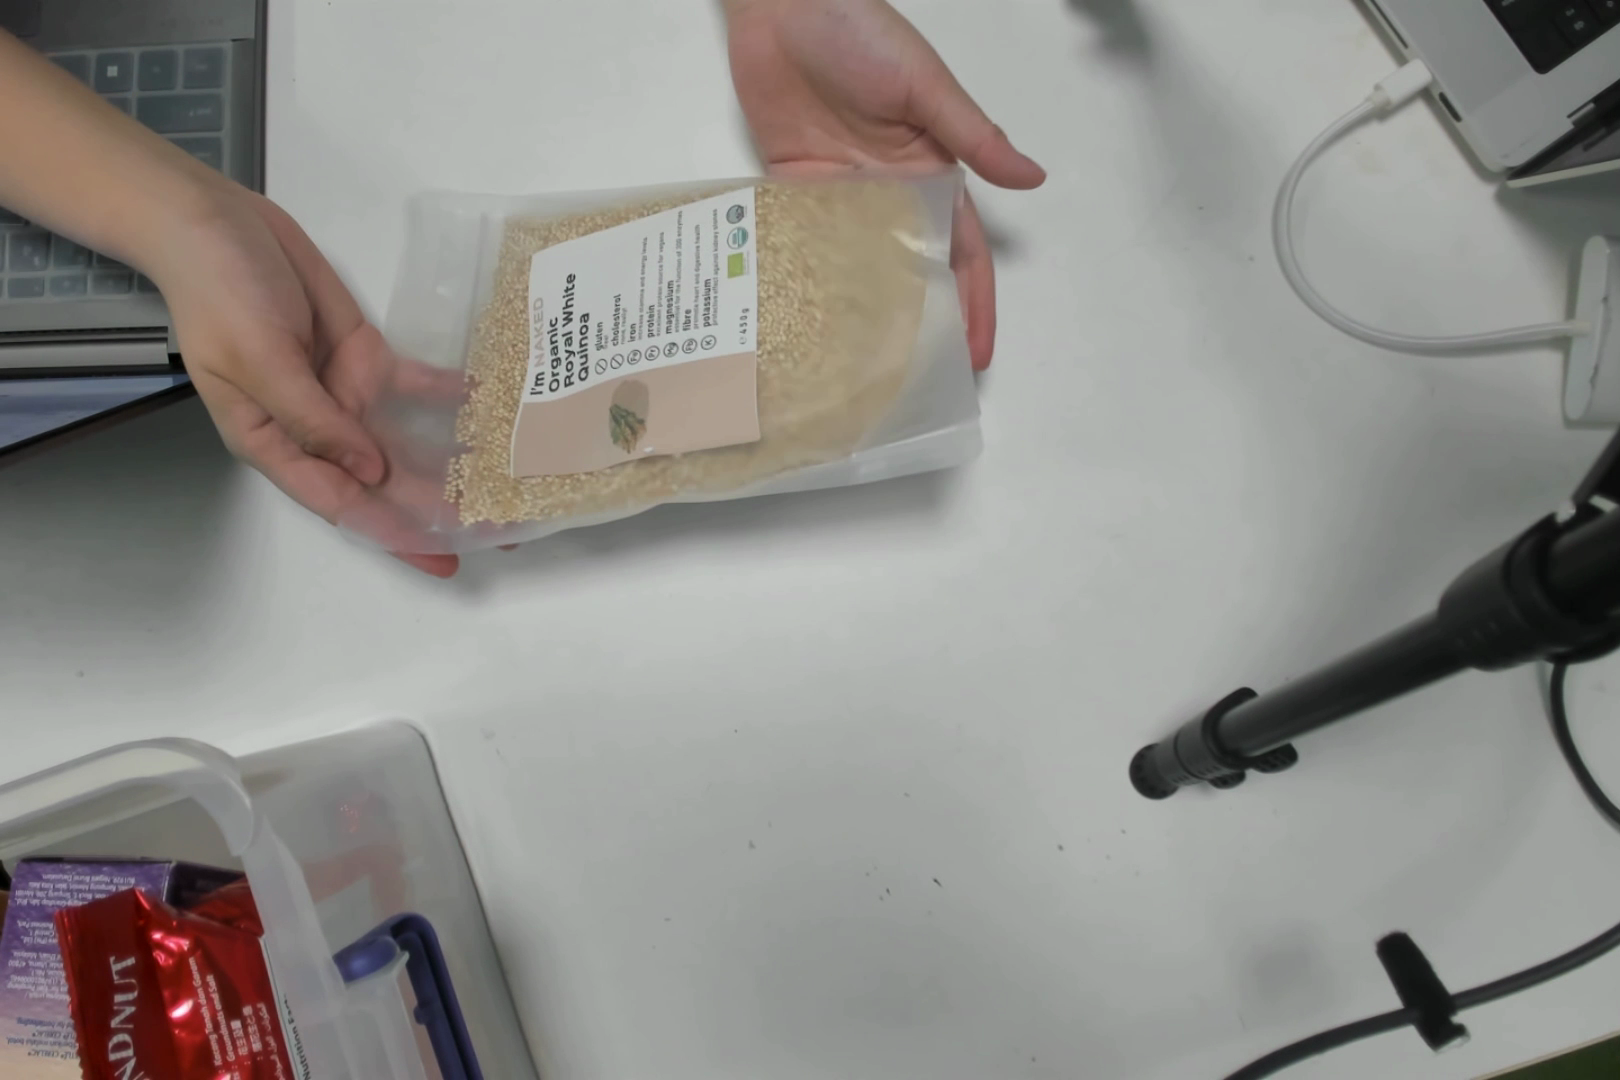Rice(brown-others)_400-499g_Halal_NonHealthy: (456, 165, 988, 524)
